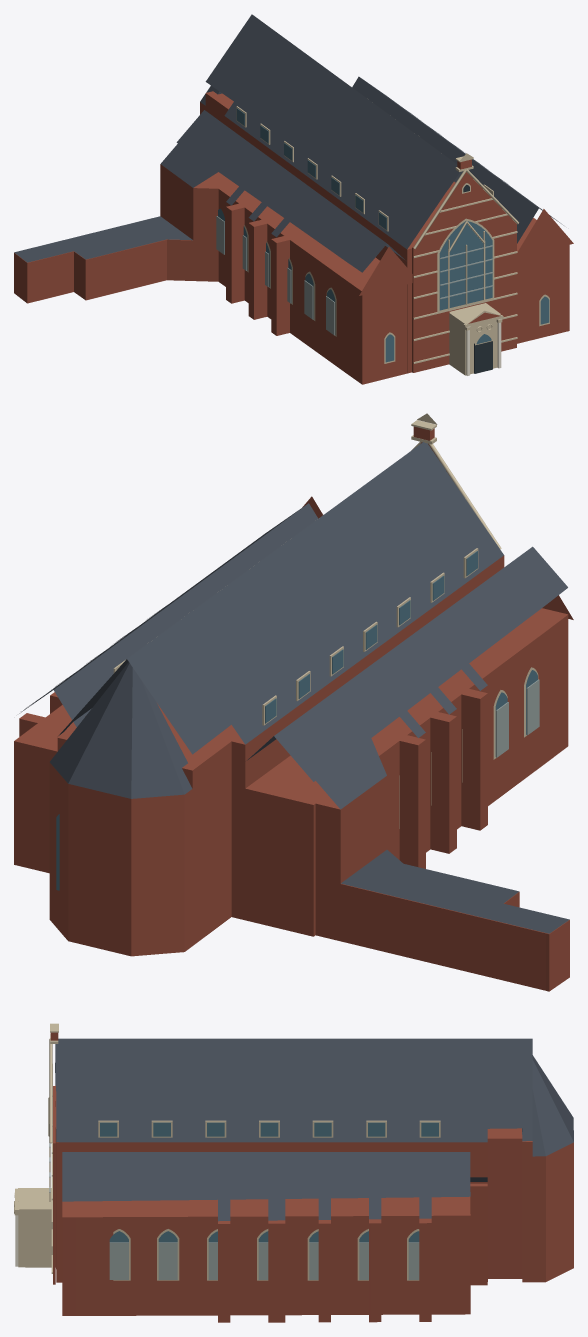
Rendered from walloon-church.glb.
3 renders of one model, top to bottom at view 1: azimuth 30°, elevation 25°; view 2: azimuth 150°, elevation 25°; view 3: azimuth 270°, elevation 25°, orthographic. The views are drawn at different scales.
Parts seen in each view (by area): view 1: walloon-church; view 2: walloon-church; view 3: walloon-church.
Boxes of the visible parts, x1,y1,x2,y2 form: walloon-church: (14, 14, 573, 384); walloon-church: (14, 413, 573, 991); walloon-church: (14, 1023, 573, 1322).
Size of the model in its own units: 42.88 by 21.85 by 47.02.
